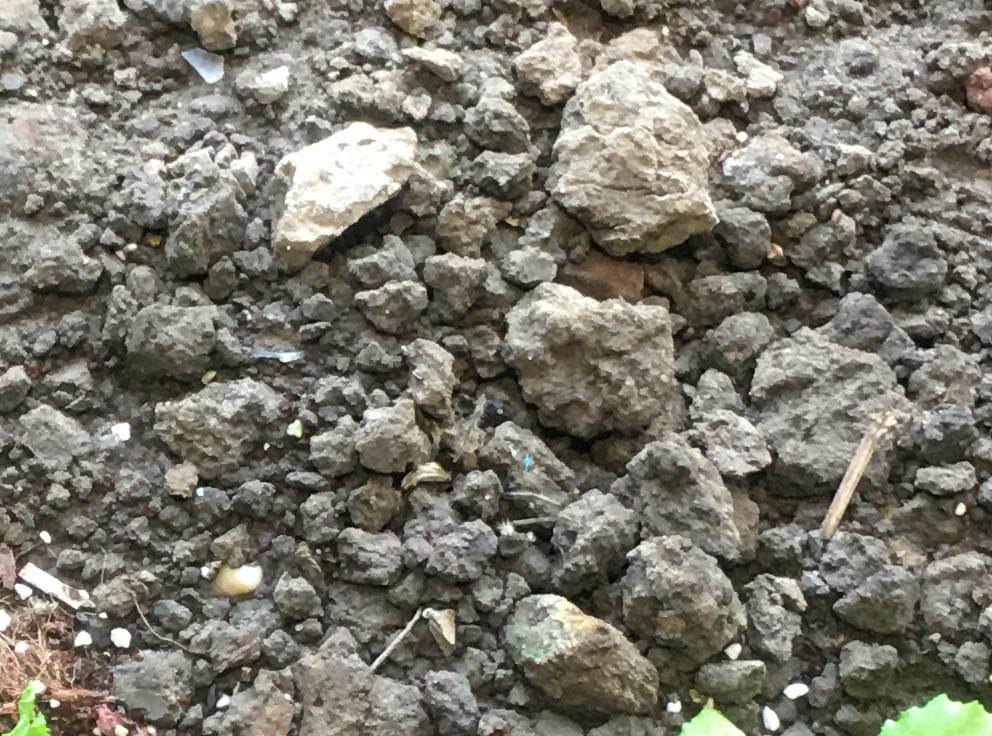block: (550, 60, 723, 257), (495, 280, 677, 430), (748, 328, 907, 493), (271, 118, 418, 267), (501, 596, 657, 713), (620, 537, 750, 673)
